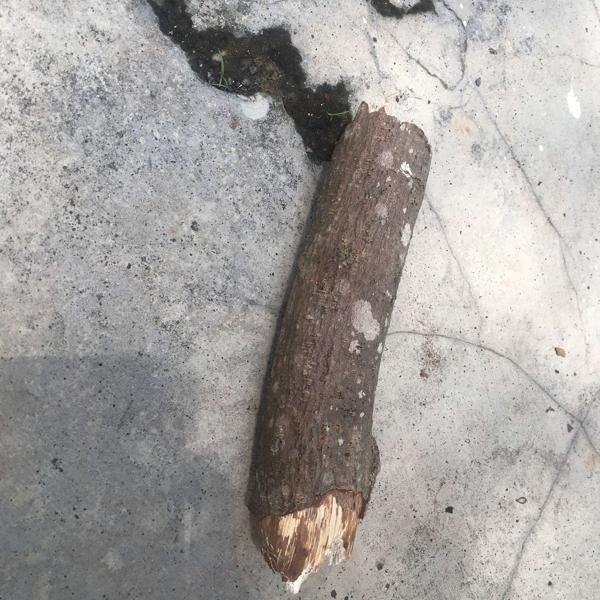Organik: (244, 107, 440, 581)
